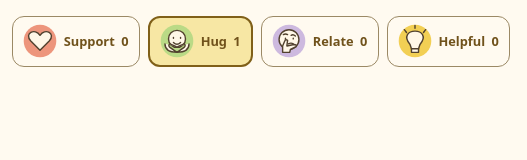
Test: clicking the selected reaction removes it and updates the count
Click the button "Hug 1".
click(200, 41)  # box [148,16,253,67]
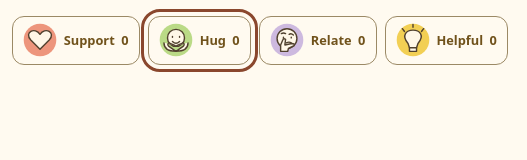
expect the button "Hug 0" is shown: met, box [148,16,251,65]
